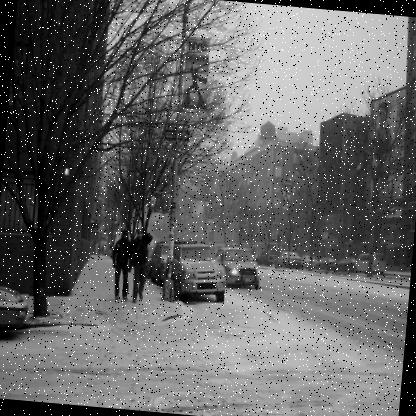Car: (170, 240, 230, 304), (257, 250, 356, 275), (213, 244, 263, 290), (0, 285, 31, 340), (150, 240, 169, 286), (145, 246, 155, 280)
